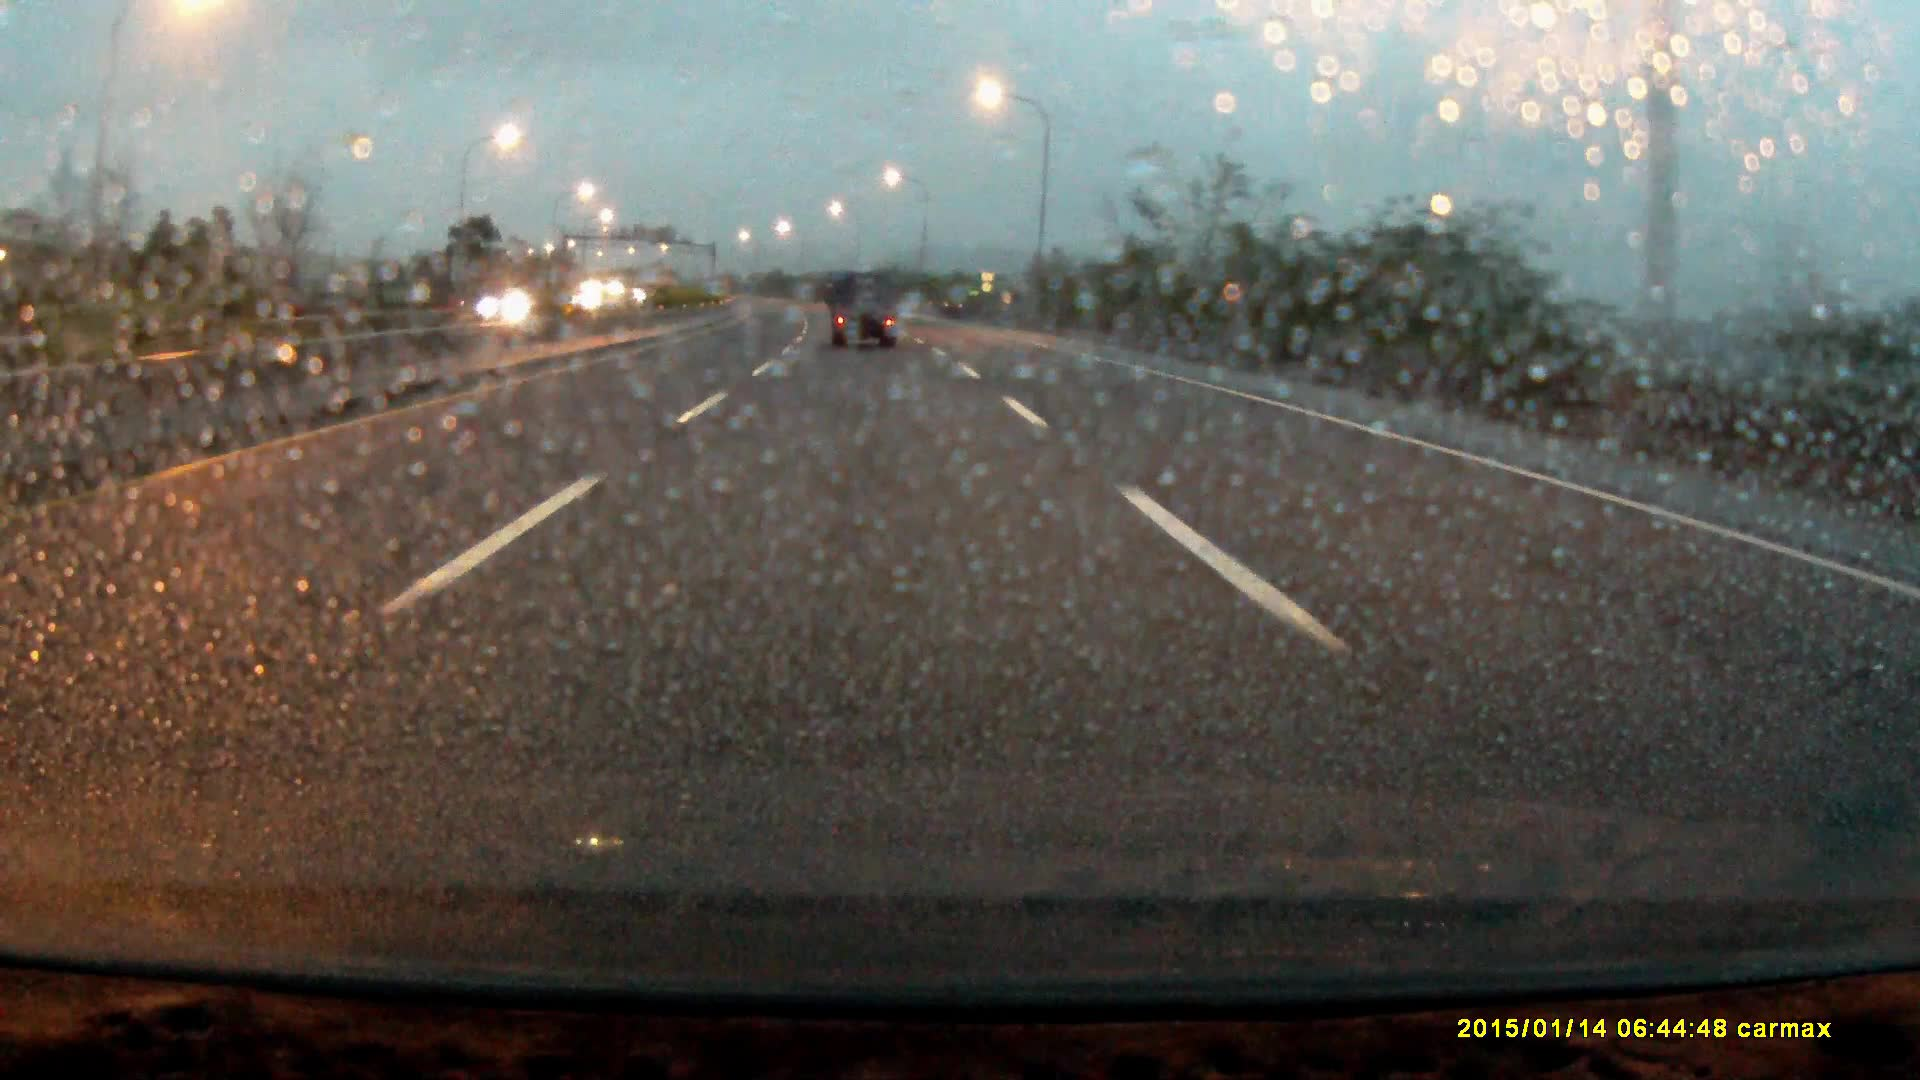vehicle: (831, 276, 898, 351), (477, 287, 553, 323)
